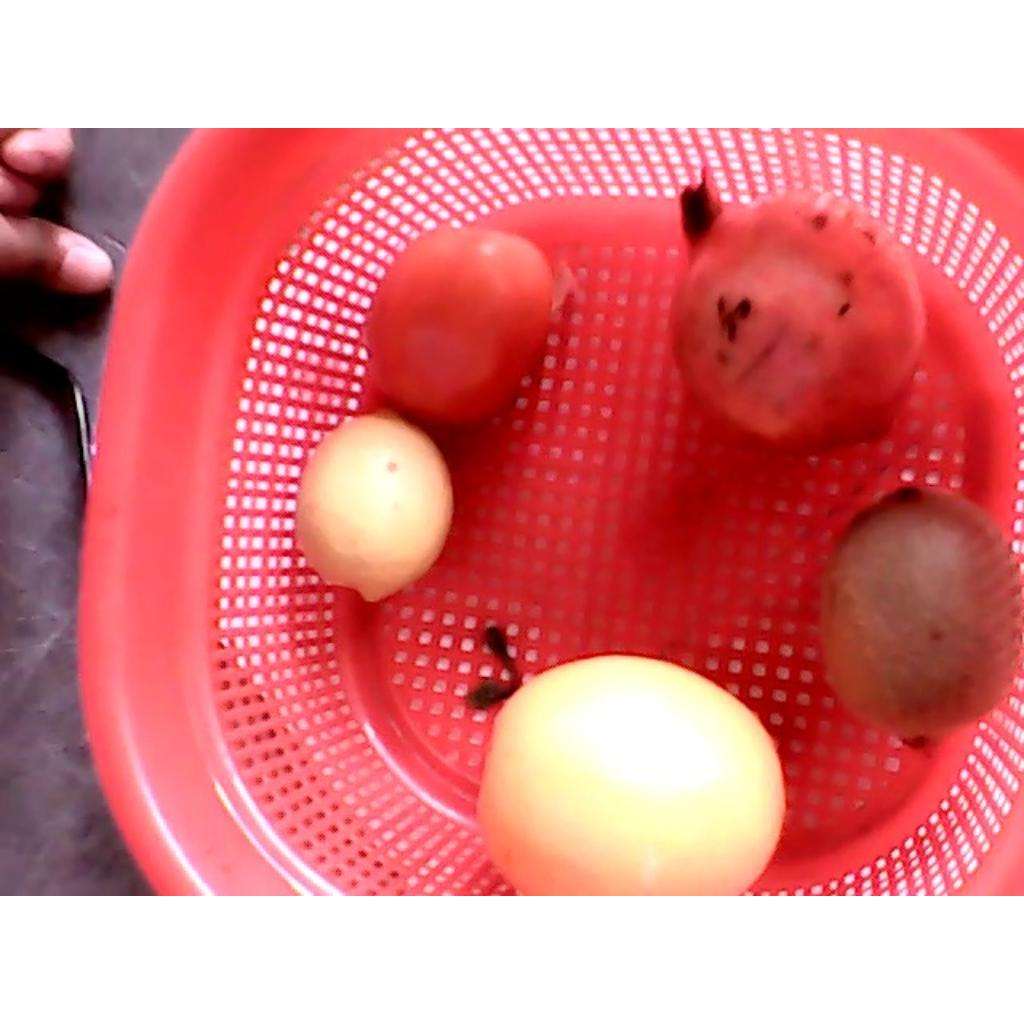kiwi: (825, 486, 1021, 743)
lemon: (298, 413, 453, 602)
orange: (473, 655, 781, 894)
pomegranate: (666, 170, 927, 452)
tomato: (362, 223, 554, 431)
